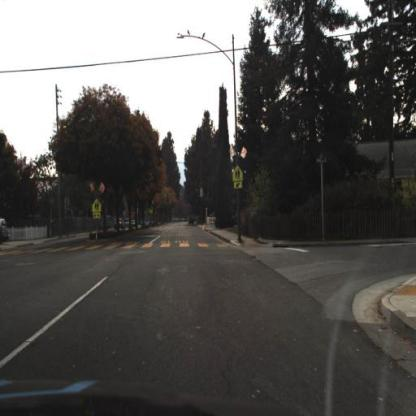car: (116, 220, 125, 231), (124, 220, 132, 230), (131, 221, 137, 228), (190, 218, 195, 226), (142, 221, 147, 226)
